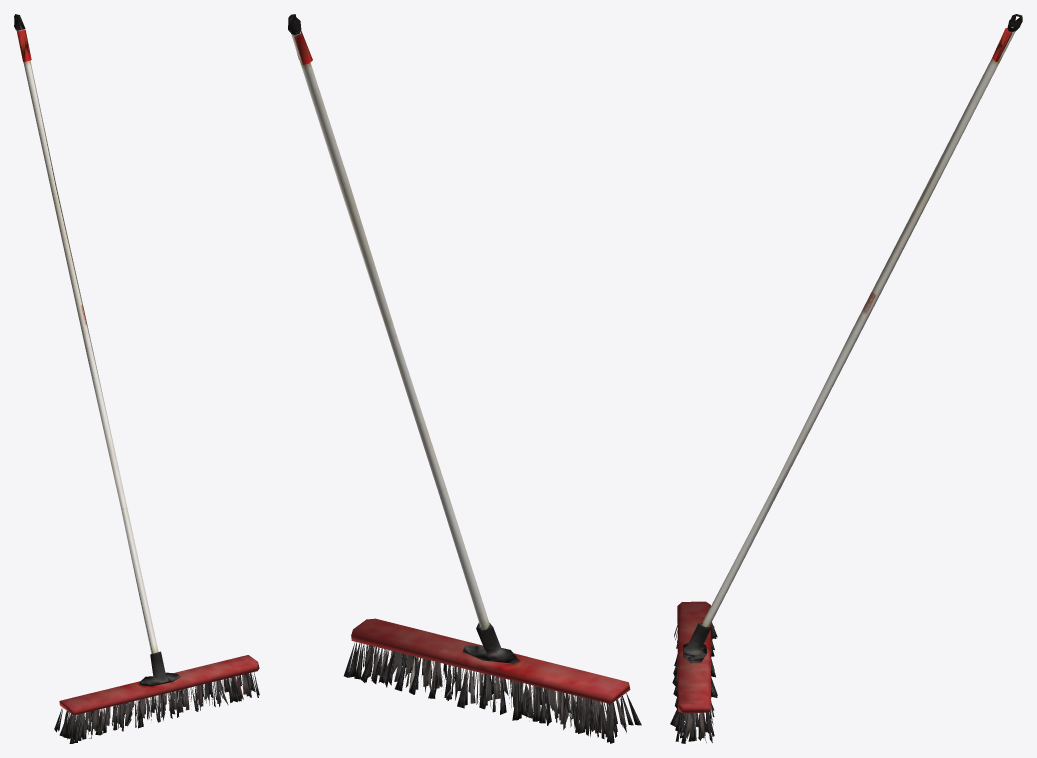
The model's file is broom_lo.glb.
3 renders of one model, left to right at view 1: azimuth 30°, elevation 25°; view 2: azimuth 150°, elevation 25°; view 3: azimuth 270°, elevation 25°, orthographic. The views are drawn at different scales.
Parts seen in each view (by area): view 1: plastic_broom; view 2: plastic_broom; view 3: plastic_broom.
Part boxes in pixels (x1=…): plastic_broom: x1=14, y1=14, x2=259, y2=743; plastic_broom: x1=288, y1=14, x2=641, y2=743; plastic_broom: x1=670, y1=14, x2=1022, y2=743.
Size of the model in its own units: 0.4117 by 1.19 by 0.564.
Materials: 2 (2 with a texture image).
